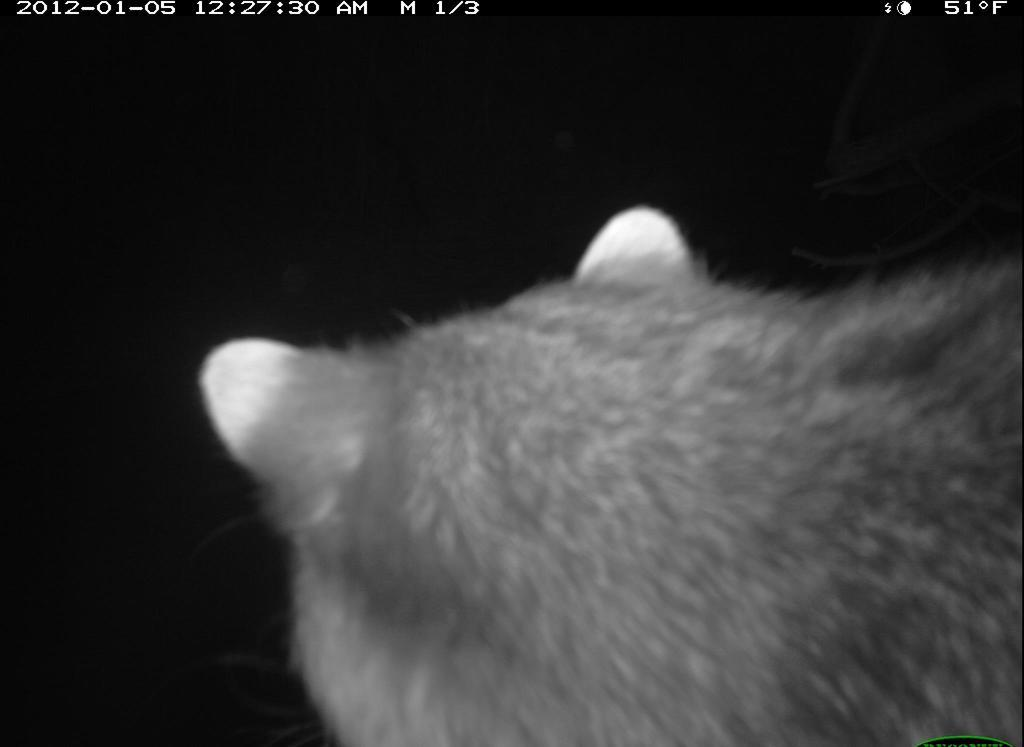raccoon: (182, 183, 1024, 747)
